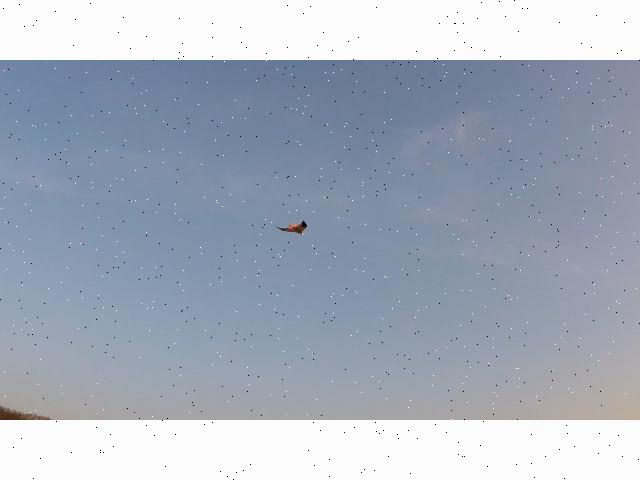Anti-Drone: (276, 221, 310, 235)
